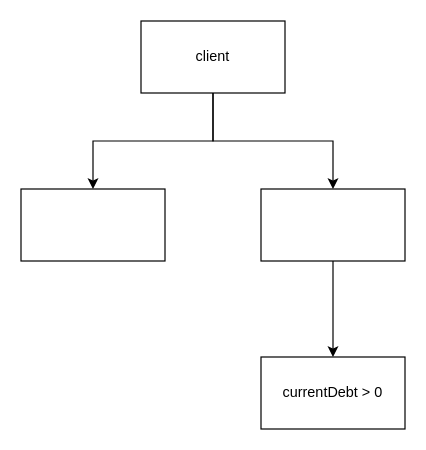
Image size: 426x450. Some labels were removed from this diagram. Each missing label, with the centre of its shape:
insert: (x=92, y=224)
update: (x=332, y=224)
